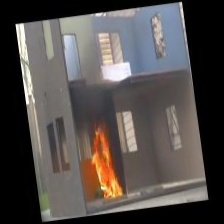fire: (80, 123, 125, 205)
